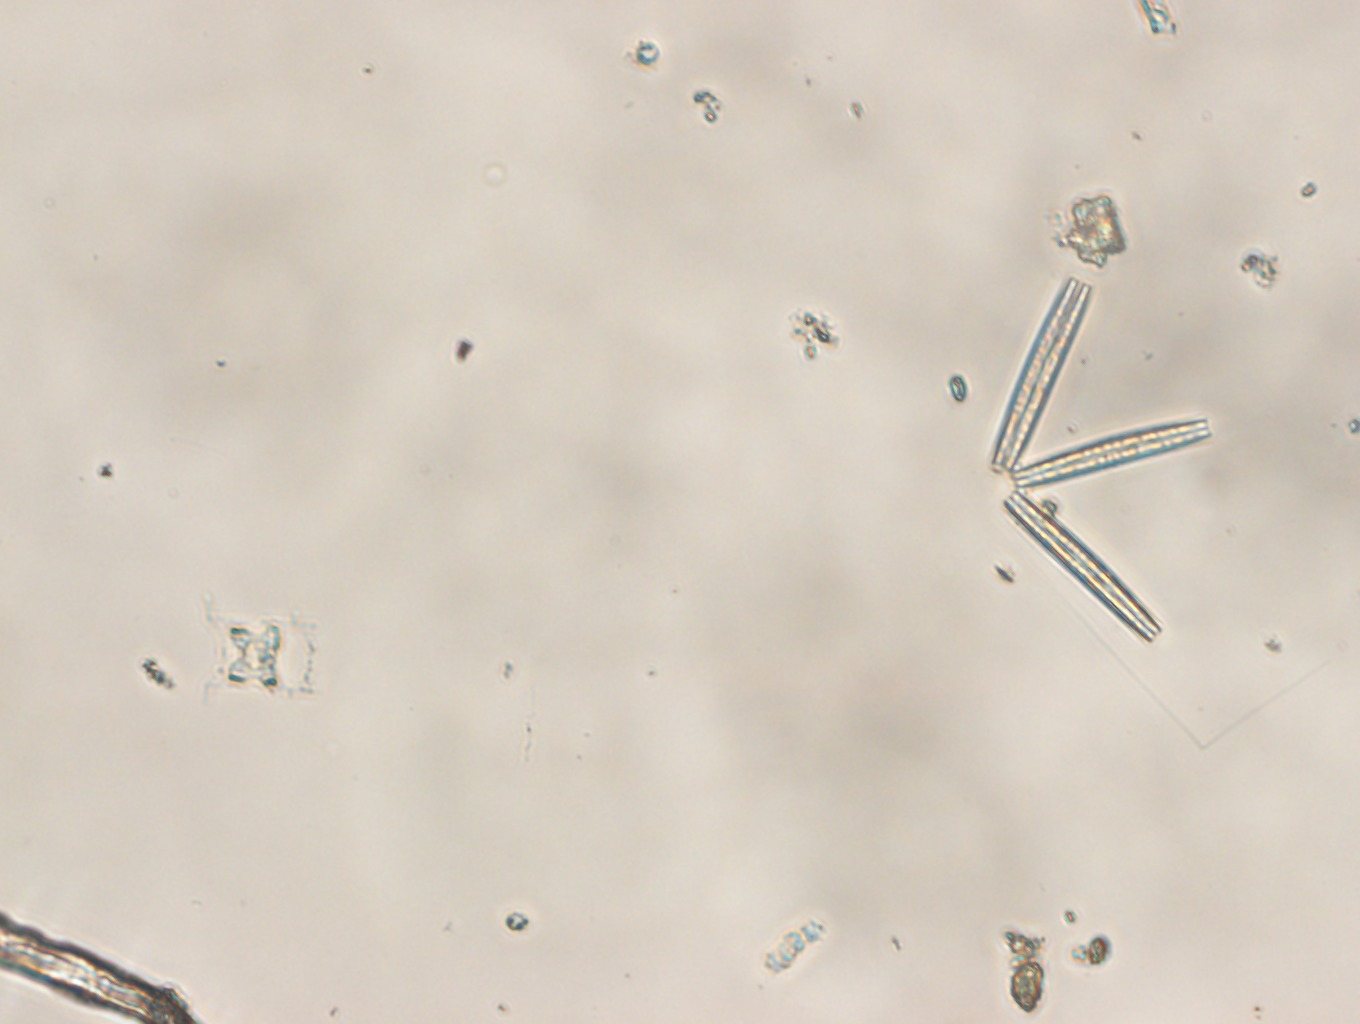thalassionema nitzschioides: (986, 276, 1211, 644)
